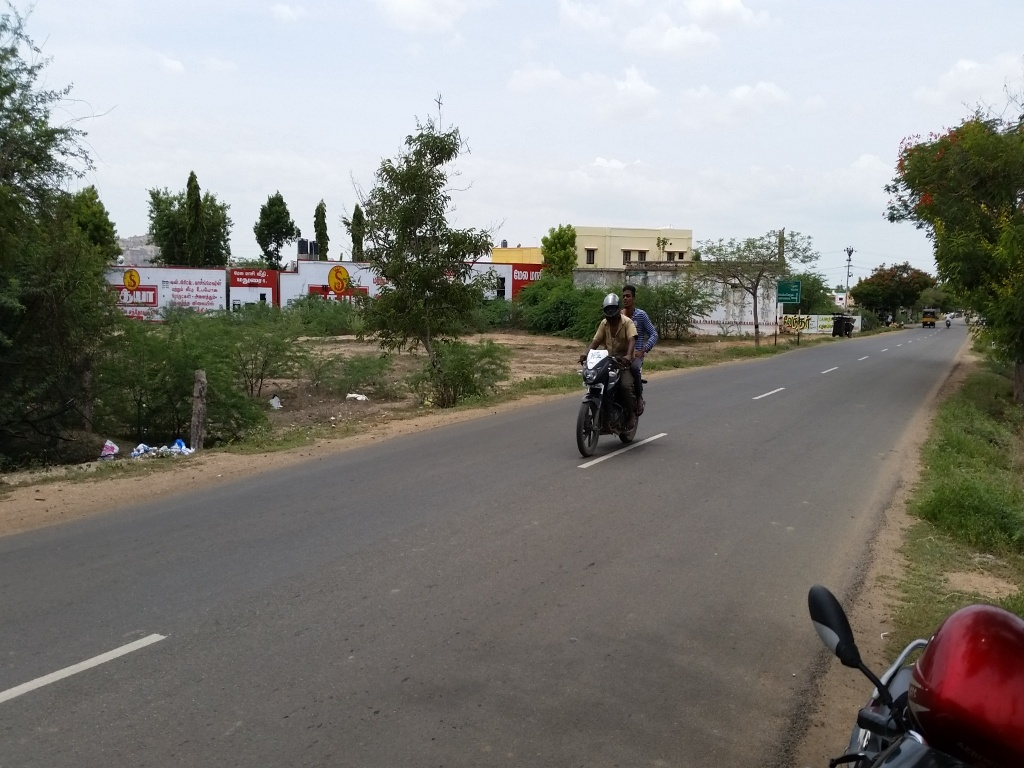biker: (556, 252, 678, 472)
helmet: (597, 287, 623, 331)
nohelmet: (620, 281, 642, 321)
